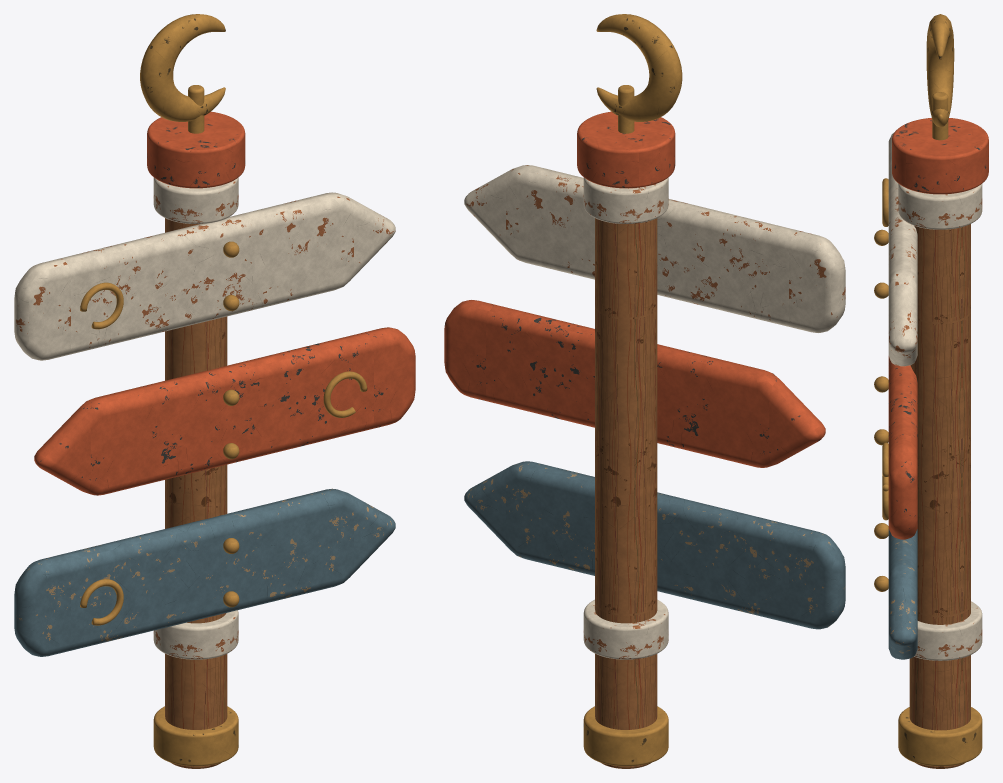
Rendered from S5_路牌_分享包版.glb.
The picture shows the model from 3 angles, left to right: view 1: azimuth 30°, elevation 25°; view 2: azimuth 150°, elevation 25°; view 3: azimuth 270°, elevation 25°; orthographic projection.
Visible parts, largest first — view 1: Carved arrow board.001, Carved arrow board.002, Carved arrow board, Oak direction post, Coral cap, Rounded crescent, Post collar, Post collar.002, Post collar.001, Carved sign scroll.002, Carved sign scroll, Carved sign scroll.001; view 2: Oak direction post, Carved arrow board.002, Carved arrow board.001, Carved arrow board, Coral cap, Rounded crescent, Post collar.001, Post collar, Post collar.002; view 3: Oak direction post, Coral cap, Carved arrow board.001, Carved arrow board, Carved arrow board.002, Post collar, Post collar.002, Post collar.001, Rounded crescent, Attached sign finial stem, Carved sign scroll.001, Carved sign scroll.
Boxes of the visible parts, x1,y1,x2,y2 form: Carved arrow board.001: (34, 327, 415, 495); Carved arrow board.002: (14, 488, 395, 656); Carved arrow board: (14, 192, 395, 360); Oak direction post: (165, 218, 227, 768); Coral cap: (147, 111, 245, 188); Rounded crescent: (140, 14, 225, 121); Post collar: (153, 706, 238, 766); Post collar.002: (153, 177, 238, 223); Post collar.001: (153, 610, 238, 659); Carved sign scroll.002: (80, 579, 123, 625); Carved sign scroll: (80, 282, 123, 329); Carved sign scroll.001: (323, 371, 367, 417); Oak direction post: (595, 218, 657, 768); Carved arrow board.002: (464, 461, 845, 629); Carved arrow board.001: (444, 300, 825, 467); Carved arrow board: (464, 165, 845, 332); Coral cap: (577, 111, 675, 188); Rounded crescent: (596, 14, 682, 121); Post collar.001: (583, 599, 668, 659); Post collar: (583, 706, 668, 766); Post collar.002: (583, 177, 668, 223); Oak direction post: (909, 224, 970, 768); Coral cap: (892, 118, 988, 194); Carved arrow board.001: (888, 356, 917, 539); Carved arrow board: (888, 133, 917, 366); Carved arrow board.002: (888, 529, 917, 659); Post collar: (898, 707, 982, 766); Post collar.002: (898, 183, 982, 229); Post collar.001: (914, 601, 982, 660); Rounded crescent: (926, 14, 954, 127); Attached sign finial stem: (932, 92, 948, 140); Carved sign scroll.001: (882, 442, 888, 491); Carved sign scroll: (882, 178, 888, 226).
Bounding box in the file's own units: 1.4 × 2.51 × 0.355.
Materials: 5 (5 with a texture image).
